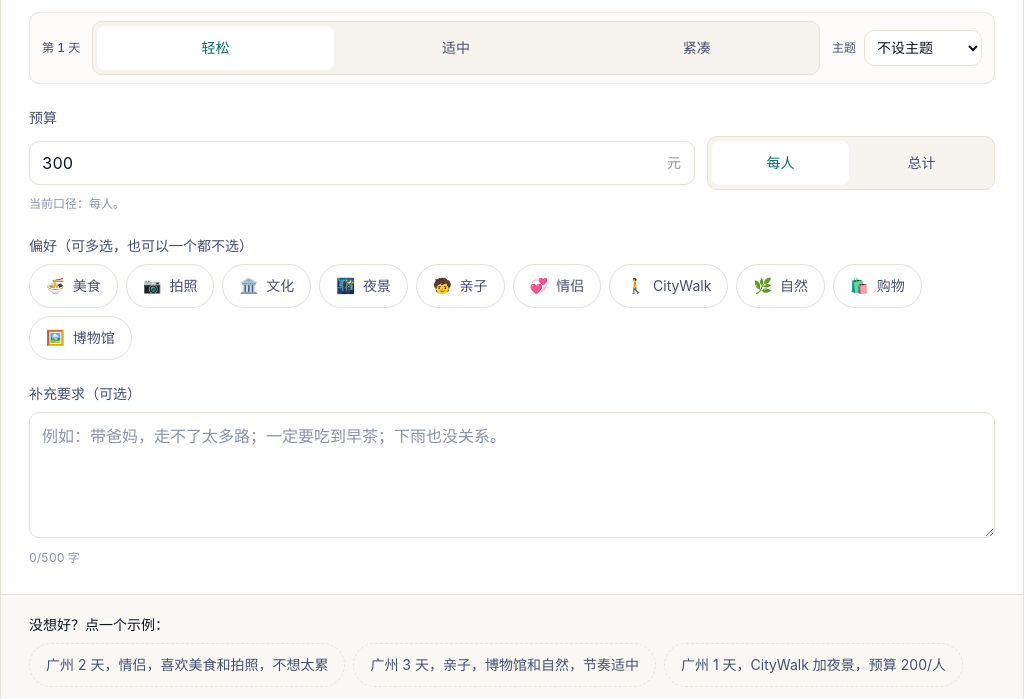
it: PlannerForm 示例一键填入 › 示例里的预算也会被解析出来（每人 200）
(page scrolled)
Click the button "广州 1 天，CityWalk 加夜景，预算 200/人". click: (814, 665)
box: left=664, top=643, right=963, bottom=687
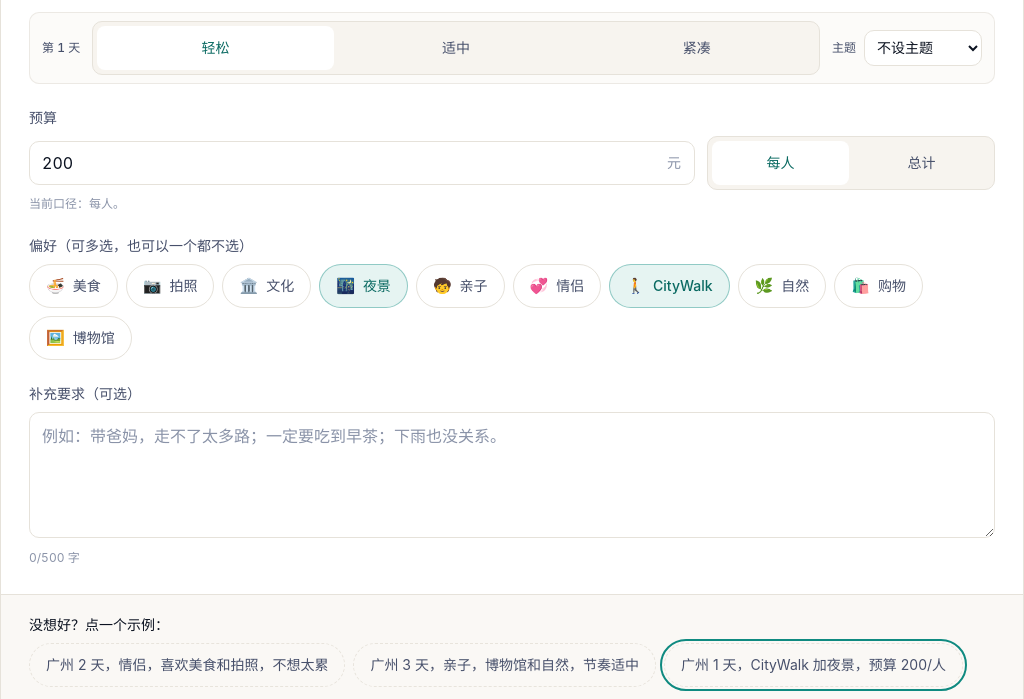
Check: the radio button labelled "每人" is checked, box left=712, top=141, right=849, bottom=185
Check: the field labelled "预算" holds "200", box left=29, top=141, right=695, bottom=185
Check: the checkbox labelled "🚶 CityWalk" is checked, box left=609, top=264, right=730, bottom=308
